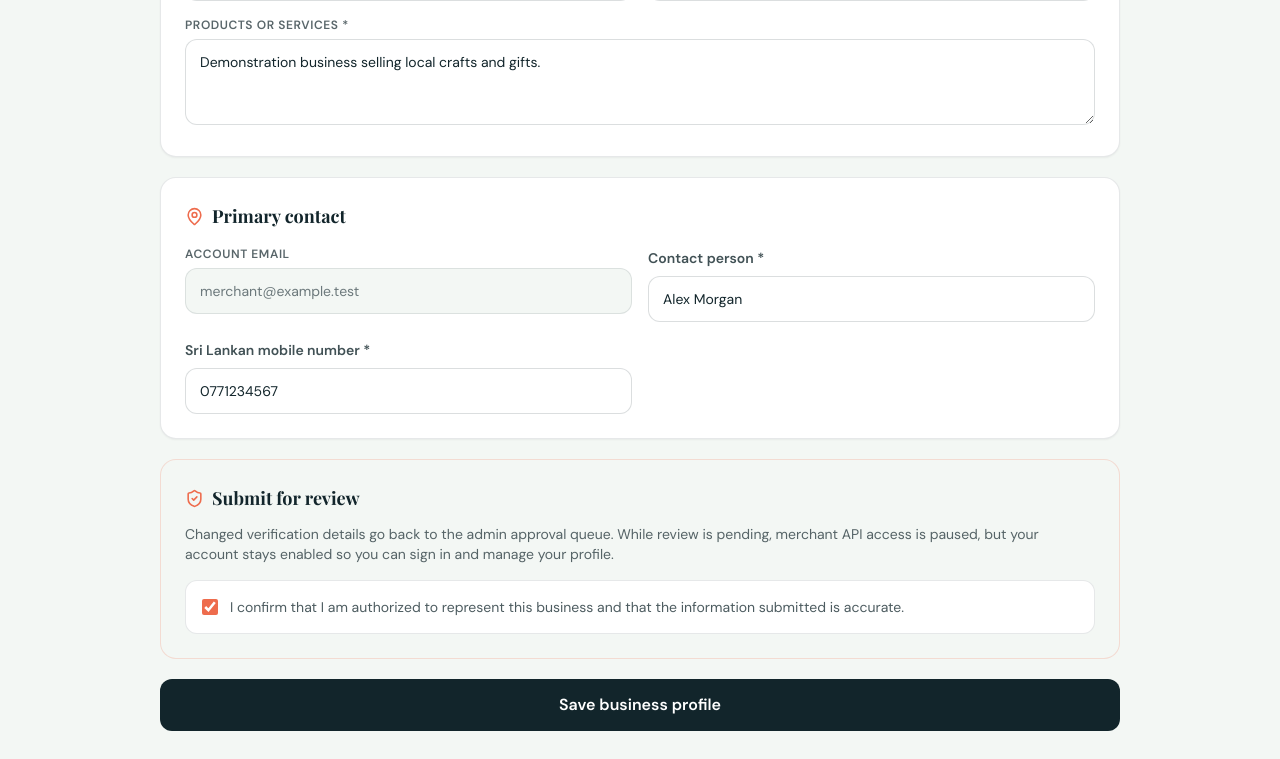
Test: MerchantProfilePage › submits changed business details and explains that API access pauses during review
(page scrolled)
Click the button "Save business profile".
click(640, 705)  # box [160,679,1120,731]
(page scrolled)
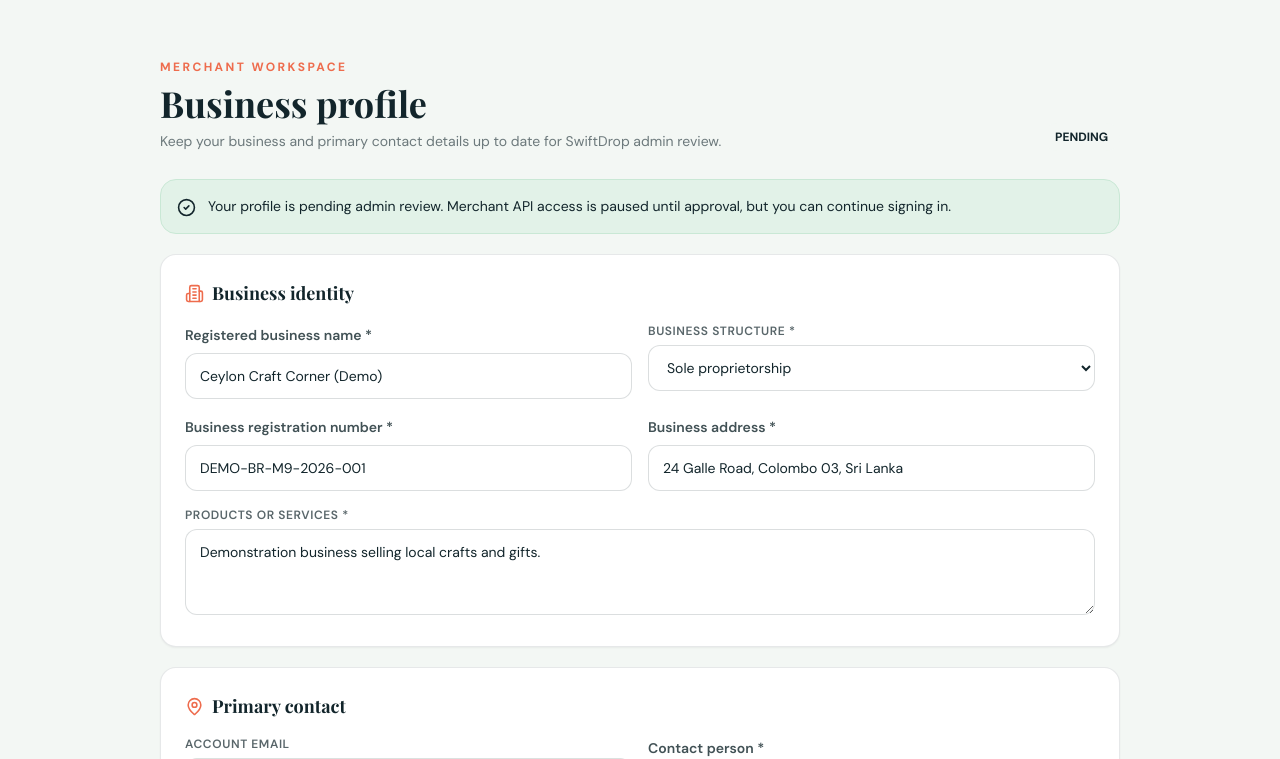
Now the message shows "pending admin review", box [208,197,951,215]
Now the message shows "you can continue signing in", box [208,197,951,215]
